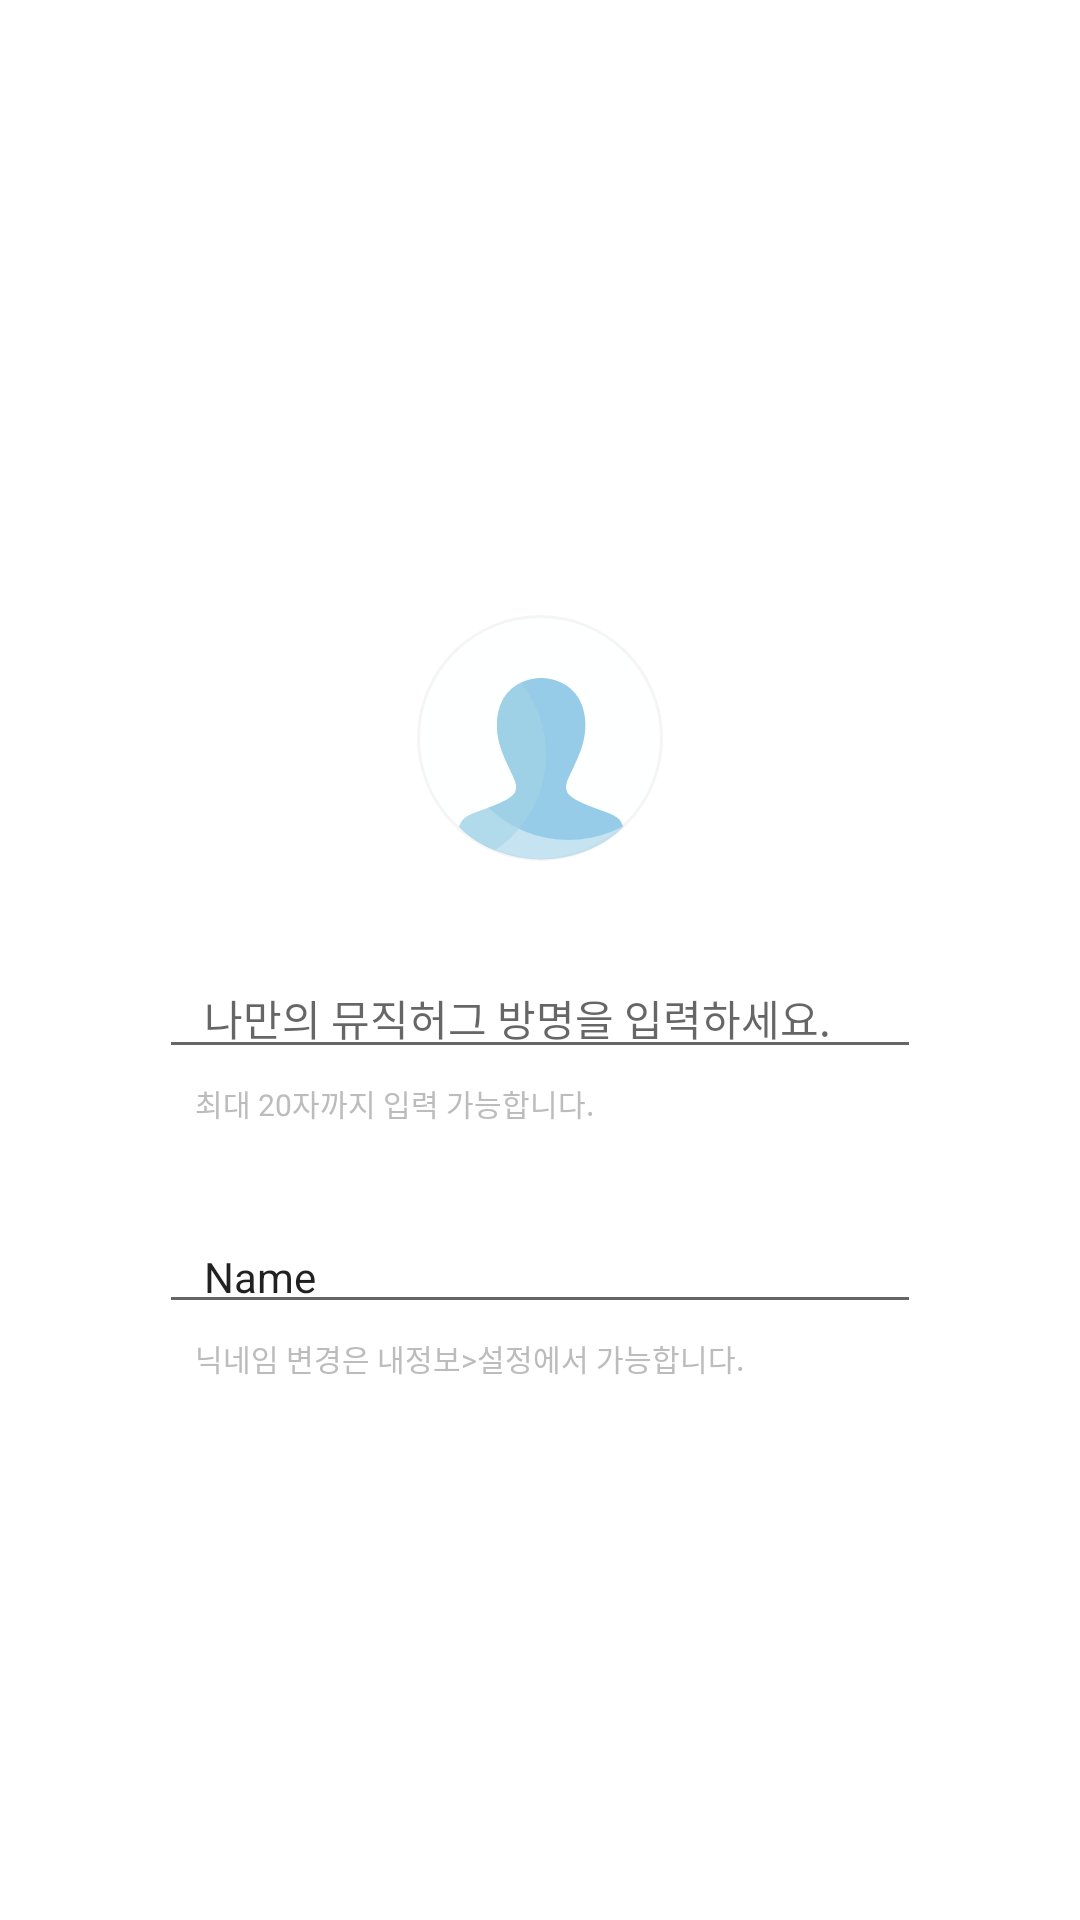

Screen size 1080 × 1920. Icon name, then its center in pixels as (x,y):
profile: (541,769)
